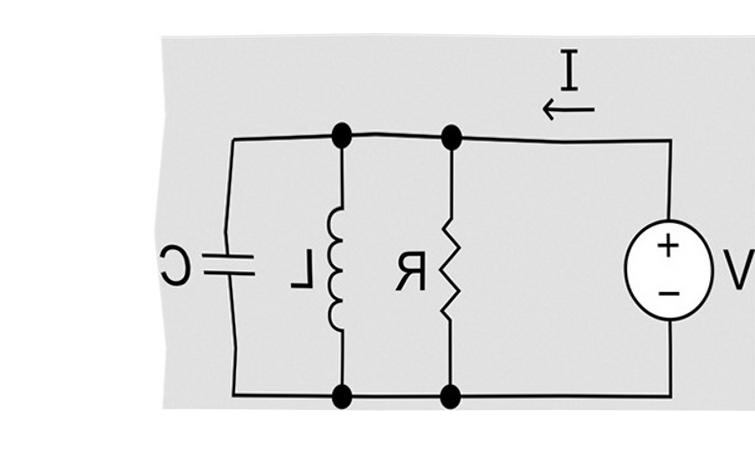Battery: (597, 204, 722, 324)
